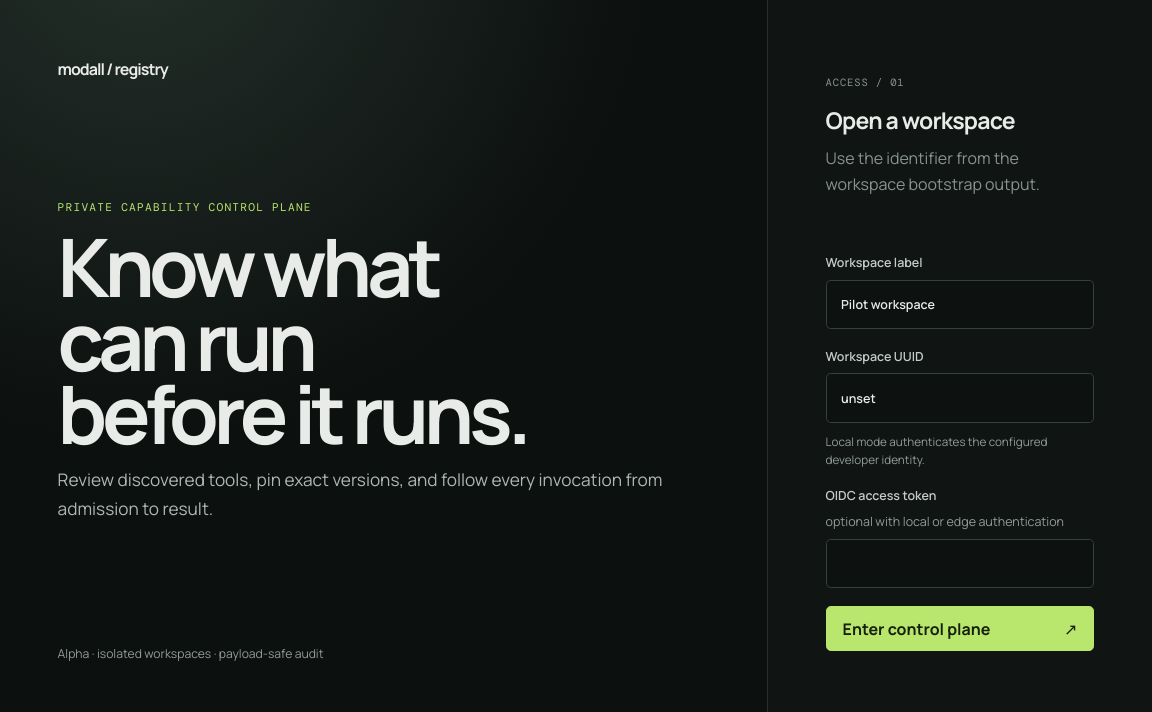
Test case: App › validates, saves, and clears the workspace session
Expected: the heading "Know what can run before it runs." is shown, [58, 230, 588, 450]
Click the button "Enter control plane ↗" at x=960, y=629, box [826, 606, 1094, 651]
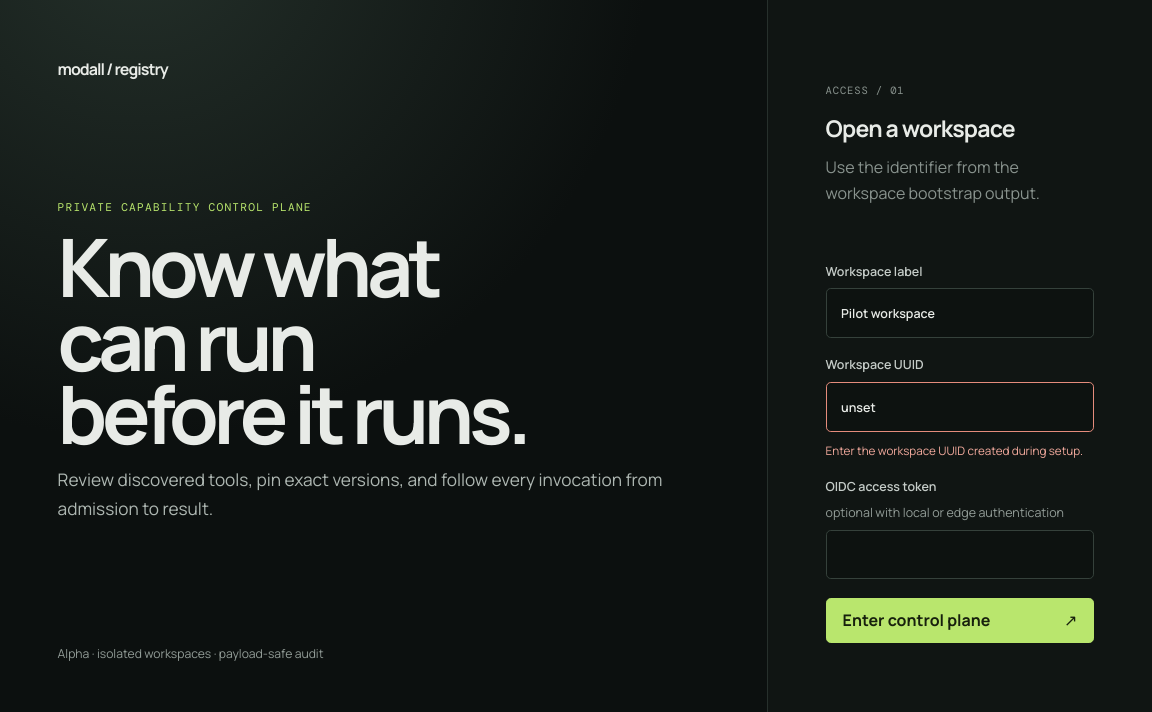
Expected: the message shows "workspace UUID", [826, 443, 1083, 459]
Replace the text in the field labelled "Workspace label" with "iOS pilot" at x=960, y=313, box [826, 288, 1094, 338]
Replace the text in the field labelled "Workspace UUID" with "11111111-1111-4111-8111-111111111111" at x=960, y=407, box [826, 382, 1094, 432]
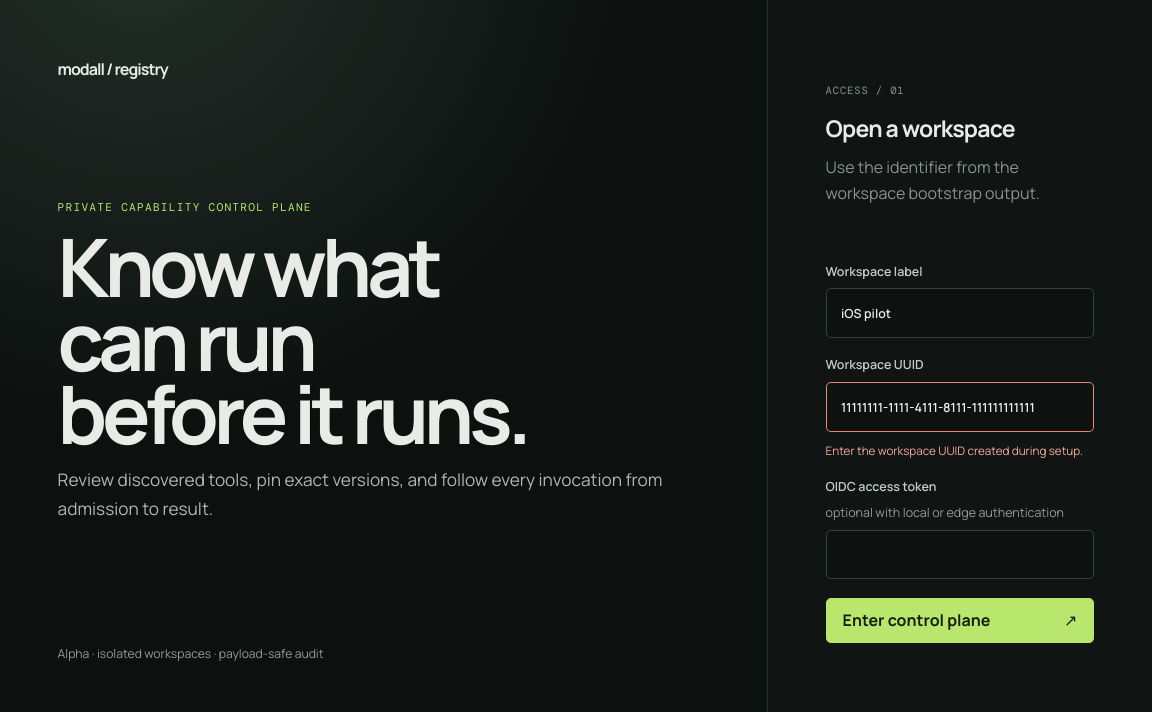
Type "token" into the password field labelled "OIDC access token optional with local or edge authentication" at x=960, y=554, box [826, 530, 1094, 579]
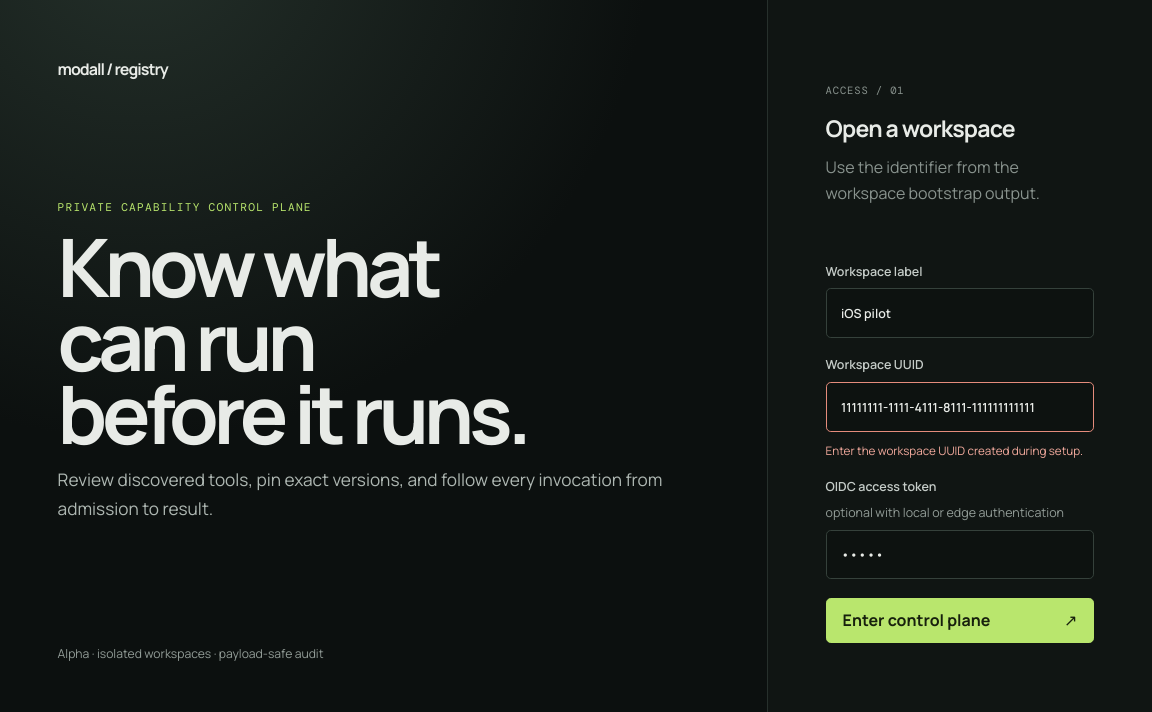
Clear the password field labelled "OIDC access token optional with local or edge authentication" at x=960, y=554, box [826, 530, 1094, 579]
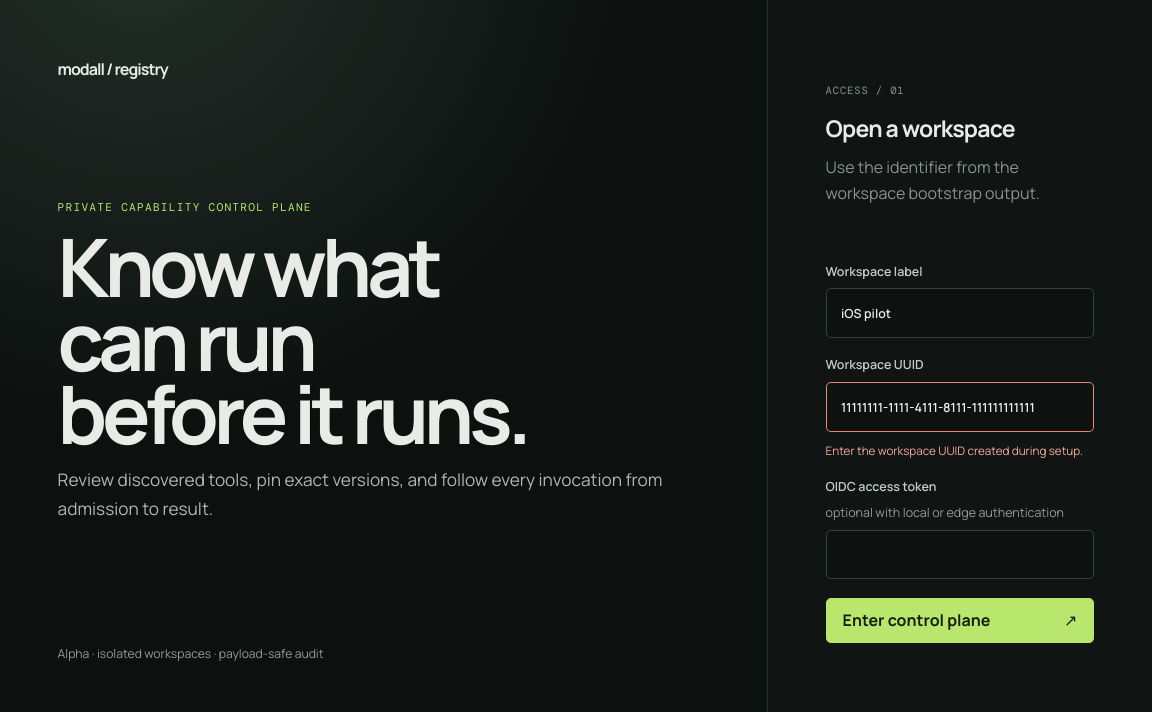
Click the button "Enter control plane ↗" at x=960, y=620, box [826, 598, 1094, 642]
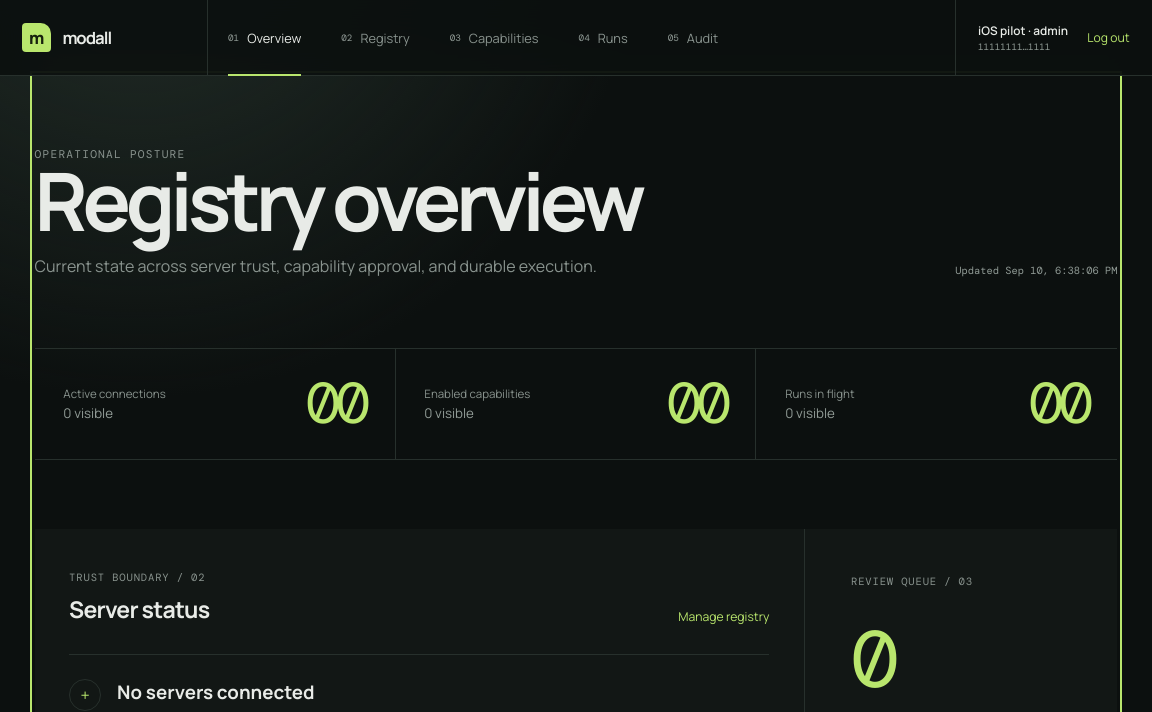
Expected: the heading "Registry overview" is shown, [35, 164, 641, 237]
Click the button "Log out" at x=1108, y=38, box [1087, 29, 1130, 46]
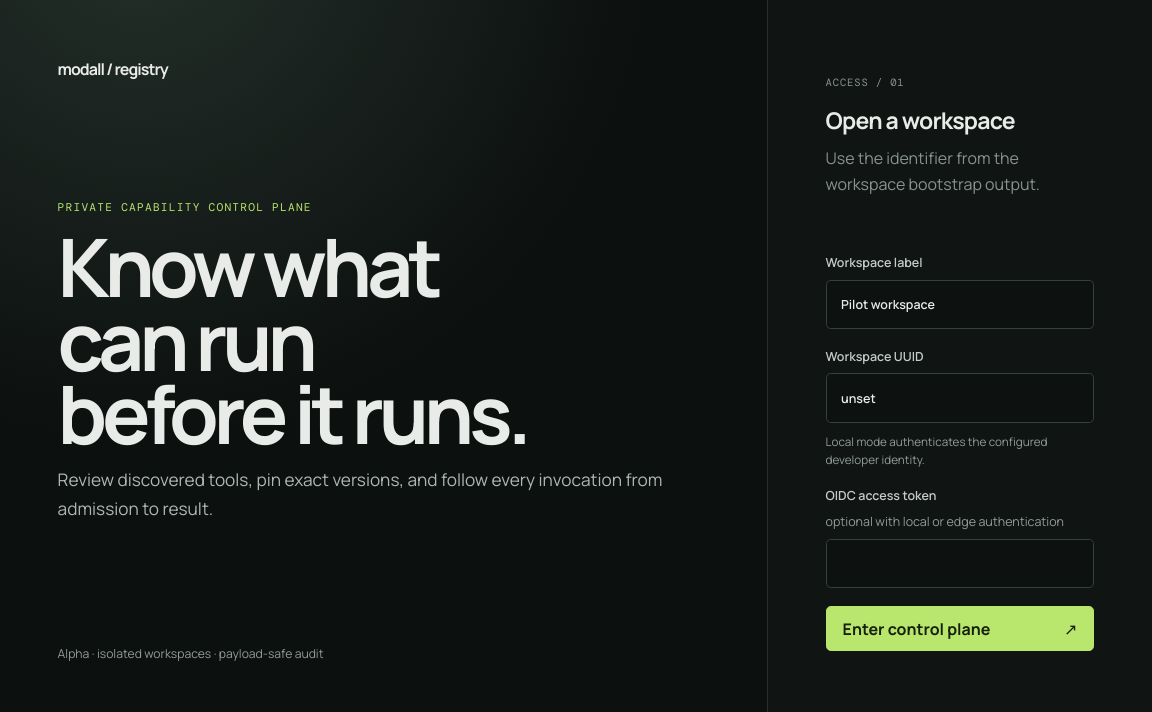
Expected: the heading "Open a workspace" is shown, [826, 104, 1015, 136]
